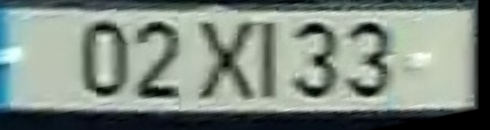0: (76, 16, 132, 102)
2: (132, 17, 184, 102)
3: (287, 17, 343, 103), (341, 17, 393, 103)
I: (257, 20, 280, 101)
X: (193, 18, 260, 103)
